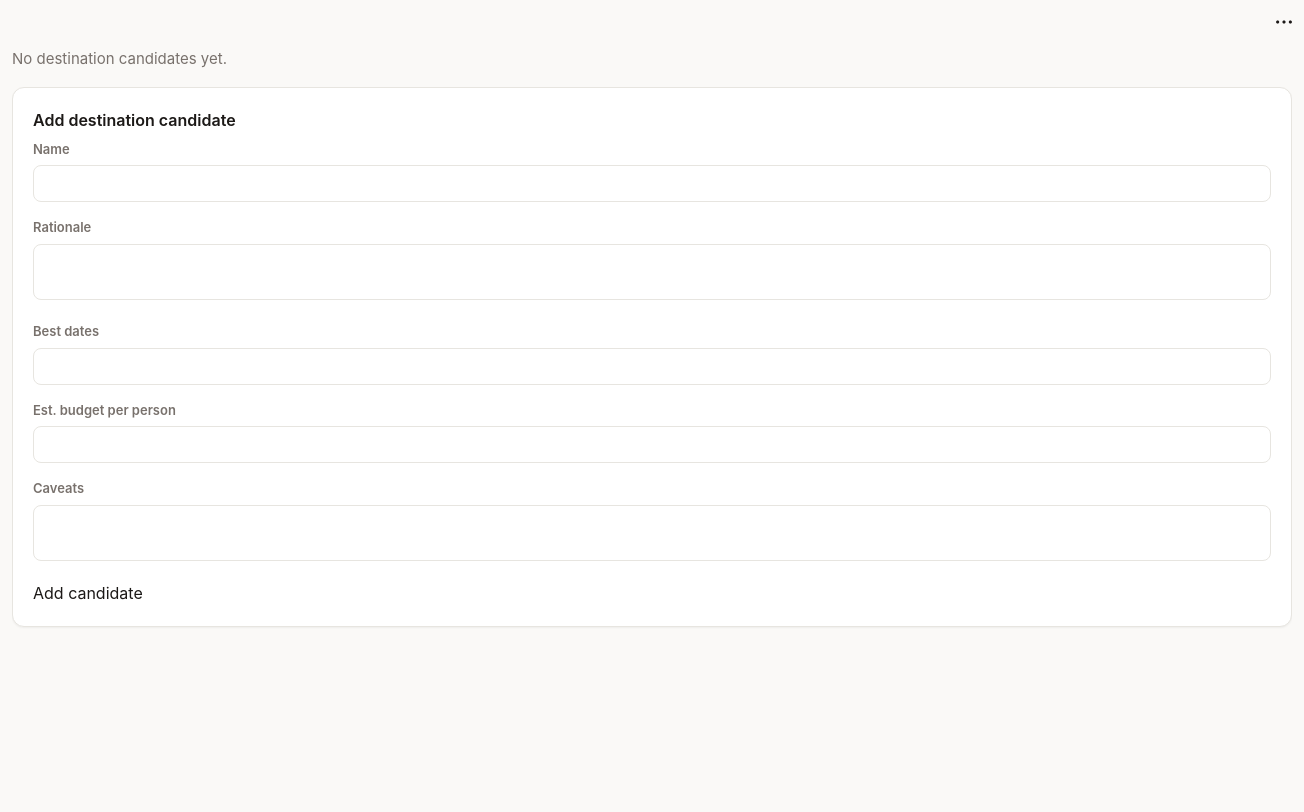
DestinationPanel AI gating (trip-planner-oa7) › disables Suggest with AI (reason in its ⋯ label) but keeps Draft with your own AI… enabled when AI is off
Click the button named "More destination actions": (1284, 22) [1276,12,1292,32]
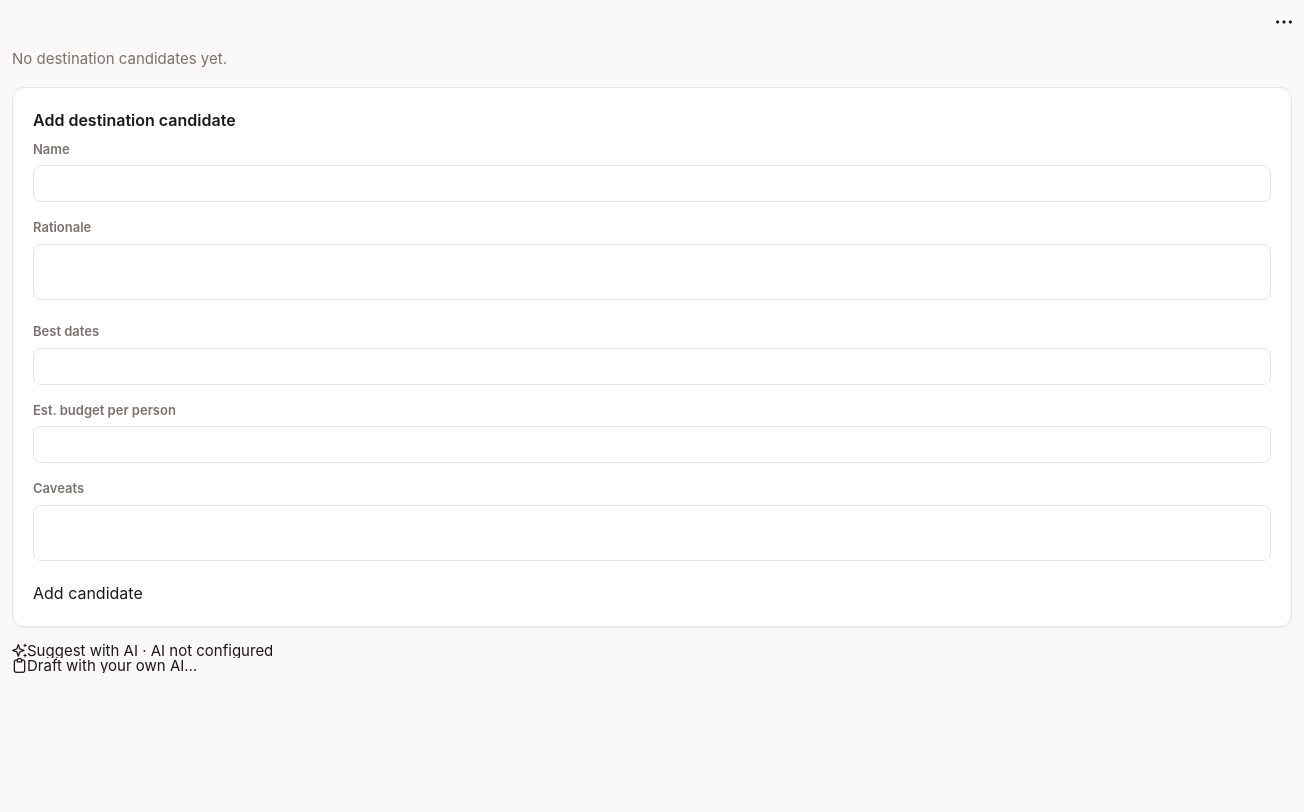
Check: the menu item "Suggest with AI · AI not configured" is shown, box [12,640,273,660]
